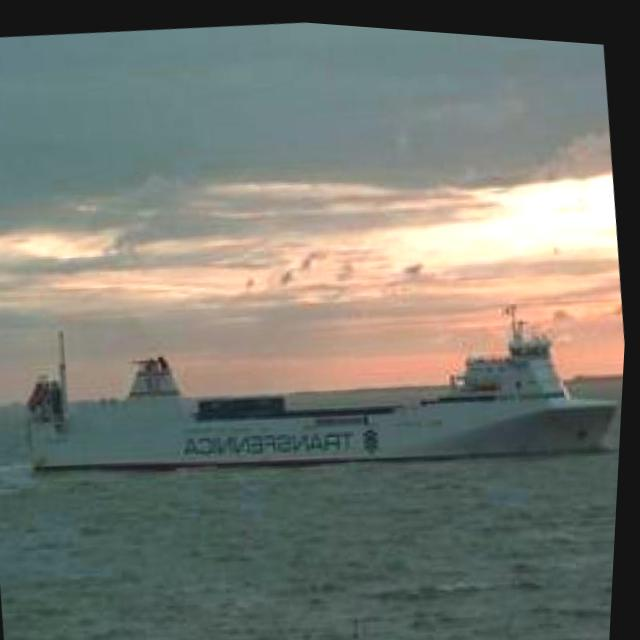ship2: (30, 295, 624, 472)
